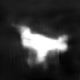plane: (11, 21, 69, 67)
